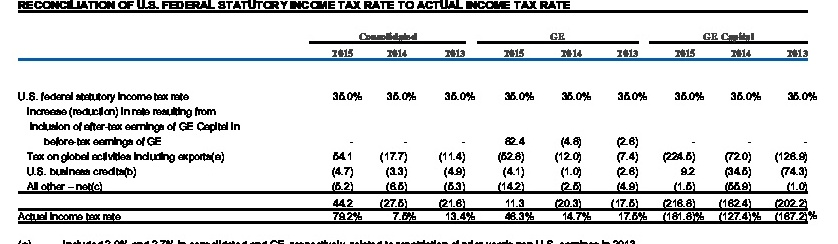table: (0, 0, 838, 244)
